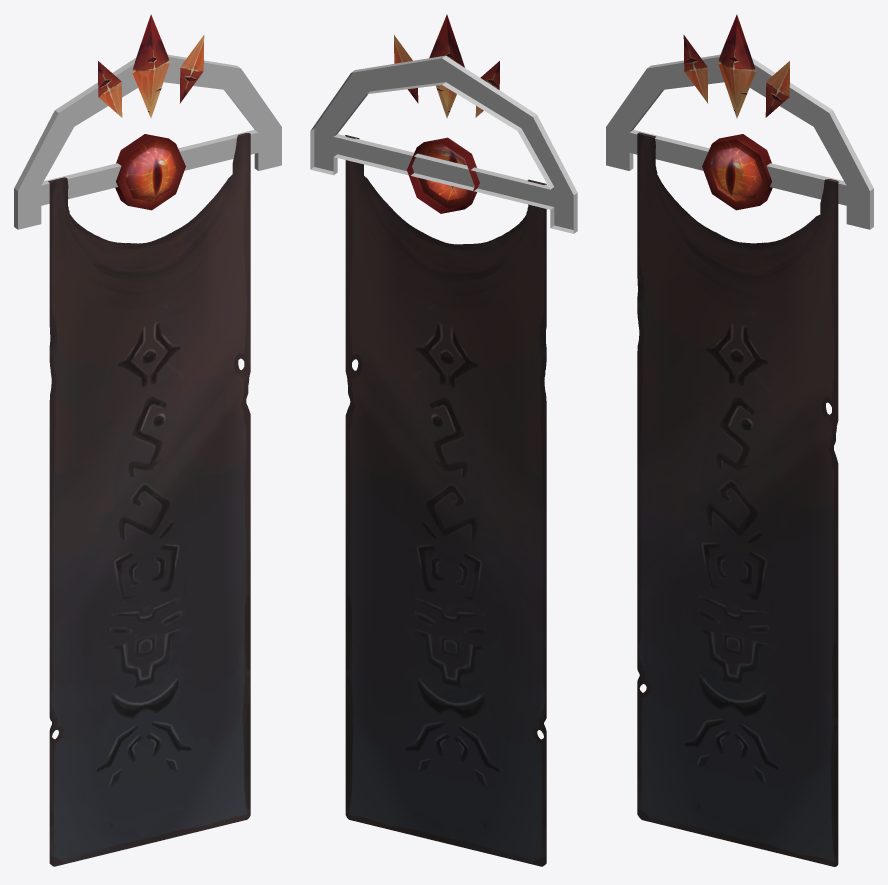
The model's file is SM_Banner_01.fbx.
3 views of the same model, side by side, from view 1: azimuth 30°, elevation 25°; view 2: azimuth 150°, elevation 25°; view 3: azimuth 330°, elevation 25° (orthographic).
Visible parts, largest first — view 1: SM_Banner_01; view 2: SM_Banner_01; view 3: SM_Banner_01.
Part boxes in pixels (bbox=[...]): SM_Banner_01: bbox=[14, 14, 281, 866]; SM_Banner_01: bbox=[310, 14, 577, 866]; SM_Banner_01: bbox=[606, 14, 873, 866].
Bounding box in the file's own units: 1.57 × 4.73 × 0.1342.
